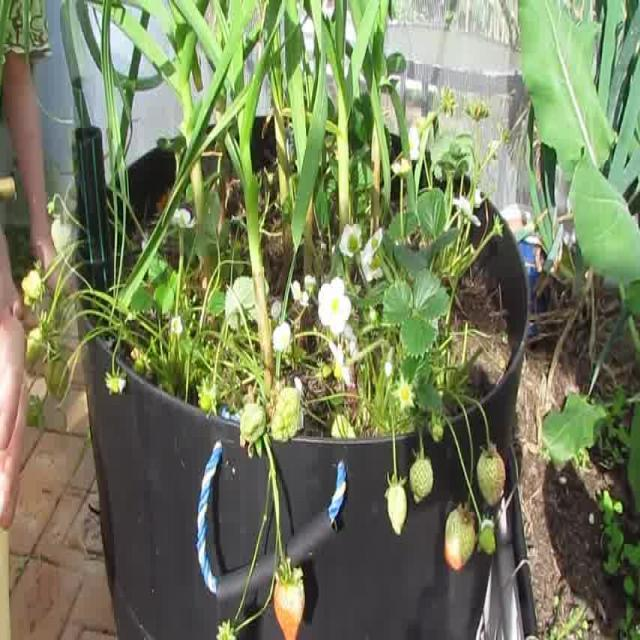Fruta sana: (274, 565, 306, 640), (26, 312, 60, 364), (477, 448, 506, 506), (271, 385, 301, 440), (240, 403, 266, 442), (476, 519, 496, 554), (48, 360, 68, 394), (332, 414, 358, 440), (26, 395, 44, 428), (430, 414, 444, 444), (322, 364, 332, 380)
Moho gris: (444, 508, 476, 570), (384, 474, 408, 536), (411, 458, 434, 504)
